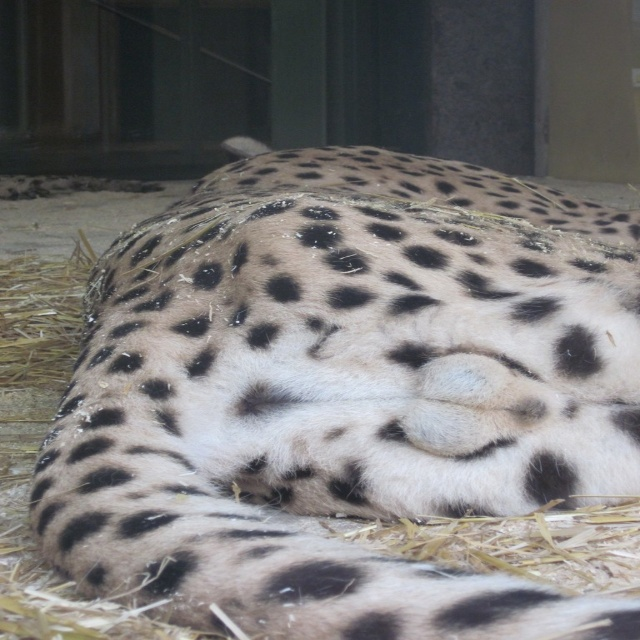Leopard: (29, 135, 640, 640)
